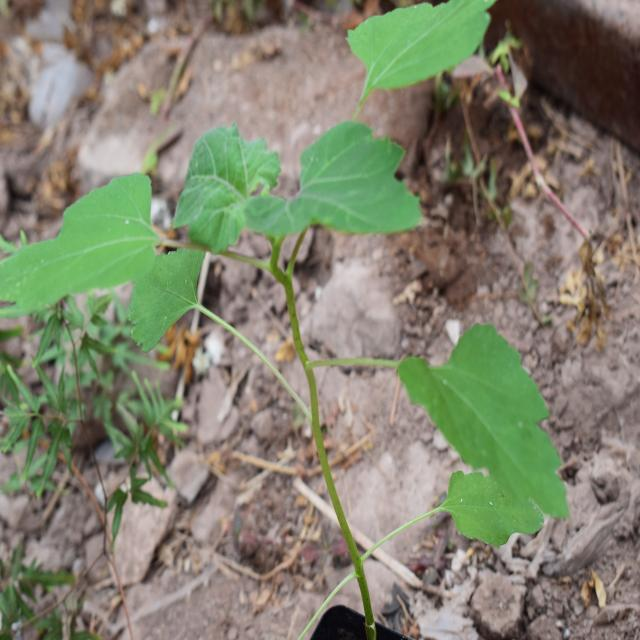cocklebur: (22, 44, 542, 530)
